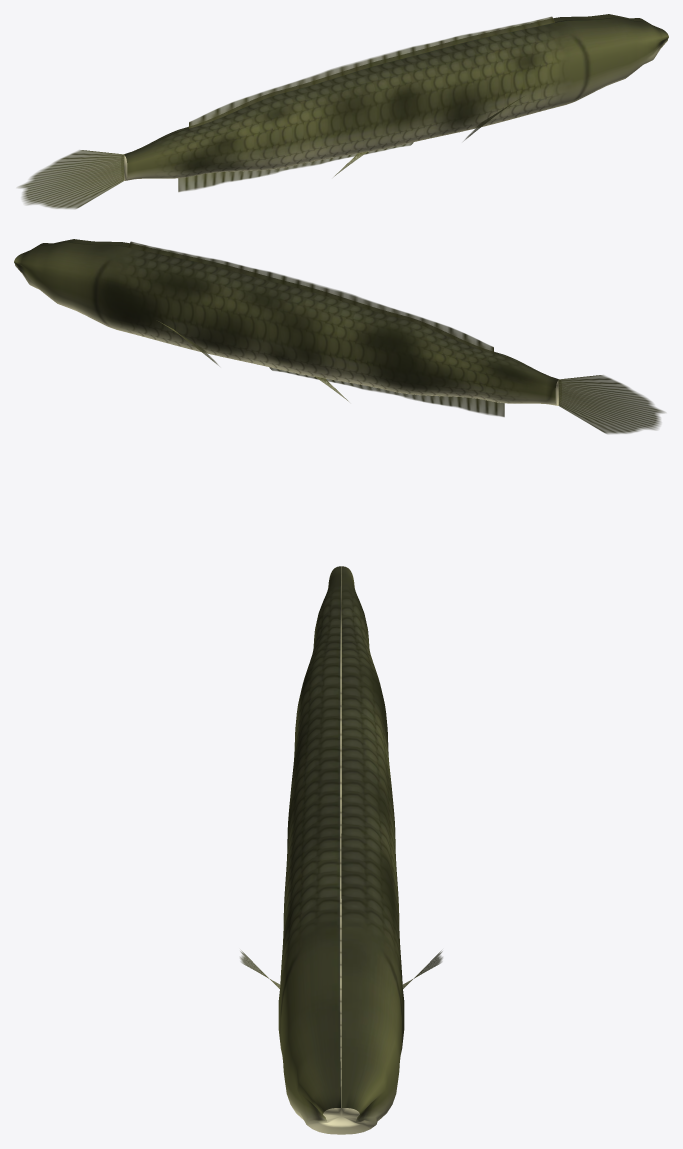
The model's file is ilonbosh.glb.
3 views of the same model, one above another, from view 1: azimuth 30°, elevation 25°; view 2: azimuth 150°, elevation 25°; view 3: azimuth 270°, elevation 25° (orthographic). The views are drawn at different scales.
Parts seen in each view (by area): view 1: ilonbosh; view 2: ilonbosh; view 3: ilonbosh.
Part boxes in pixels (left/top/right/bottom): ilonbosh: left=17, top=14, right=668, bottom=209; ilonbosh: left=14, top=239, right=665, bottom=434; ilonbosh: left=240, top=566, right=442, bottom=1134.
Size of the model in its own units: 0.8428 by 0.1288 by 0.1164.
1 material, 1 textured.
